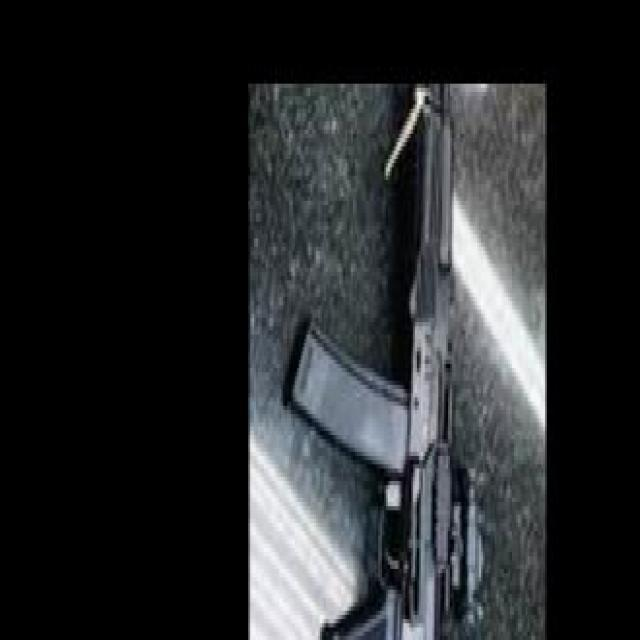weapon: (280, 85, 486, 640)
